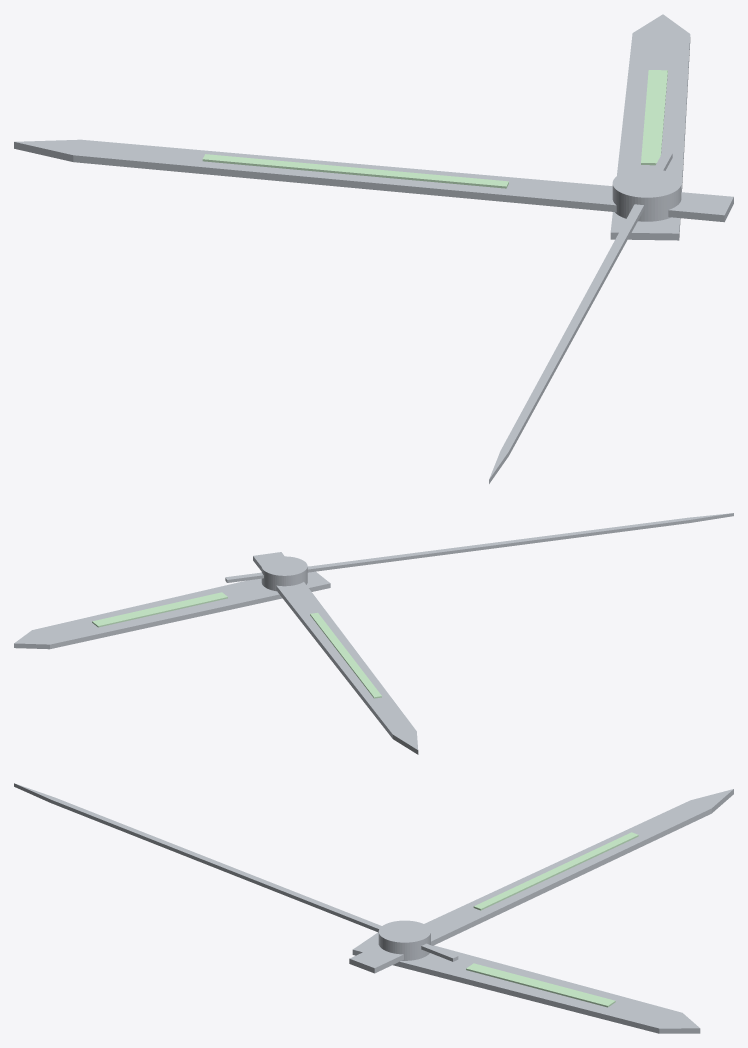
Rendered from hands-baton-42.glb.
3 views of the same model, one above another, from view 1: azimuth 30°, elevation 25°; view 2: azimuth 150°, elevation 25°; view 3: azimuth 270°, elevation 25° (orthographic). The views are drawn at different scales.
Parts seen in each view (by area): view 1: DD_HAND_MINUTE, DD_HAND_HOUR, DD_HAND_SECONDS, DD_HAND_HUB, DD_HAND_MINUTE_LUME, DD_HAND_HOUR_LUME; view 2: DD_HAND_HOUR, DD_HAND_MINUTE, DD_HAND_SECONDS, DD_HAND_HUB, DD_HAND_HOUR_LUME, DD_HAND_MINUTE_LUME; view 3: DD_HAND_MINUTE, DD_HAND_HOUR, DD_HAND_SECONDS, DD_HAND_HUB, DD_HAND_HOUR_LUME, DD_HAND_MINUTE_LUME.
Boxes of the visible parts, bbox=[...] form: DD_HAND_MINUTE: bbox=[14, 139, 733, 222]; DD_HAND_HOUR: bbox=[610, 14, 690, 240]; DD_HAND_SECONDS: bbox=[489, 152, 672, 483]; DD_HAND_HUB: bbox=[612, 168, 681, 221]; DD_HAND_MINUTE_LUME: bbox=[202, 154, 508, 188]; DD_HAND_HOUR_LUME: bbox=[641, 70, 667, 165]; DD_HAND_HOUR: bbox=[14, 566, 330, 649]; DD_HAND_MINUTE: bbox=[253, 552, 418, 754]; DD_HAND_SECONDS: bbox=[225, 513, 733, 582]; DD_HAND_HUB: bbox=[261, 556, 307, 591]; DD_HAND_HOUR_LUME: bbox=[92, 592, 227, 627]; DD_HAND_MINUTE_LUME: bbox=[310, 612, 381, 698]; DD_HAND_MINUTE: bbox=[349, 789, 733, 973]; DD_HAND_HOUR: bbox=[352, 932, 700, 1033]; DD_HAND_SECONDS: bbox=[14, 783, 458, 961]; DD_HAND_HUB: bbox=[378, 920, 430, 960]; DD_HAND_HOUR_LUME: bbox=[466, 963, 615, 1007]; DD_HAND_MINUTE_LUME: bbox=[473, 832, 638, 910].
Size of the model in its own units: 14.21 by 0.685 by 18.59.
